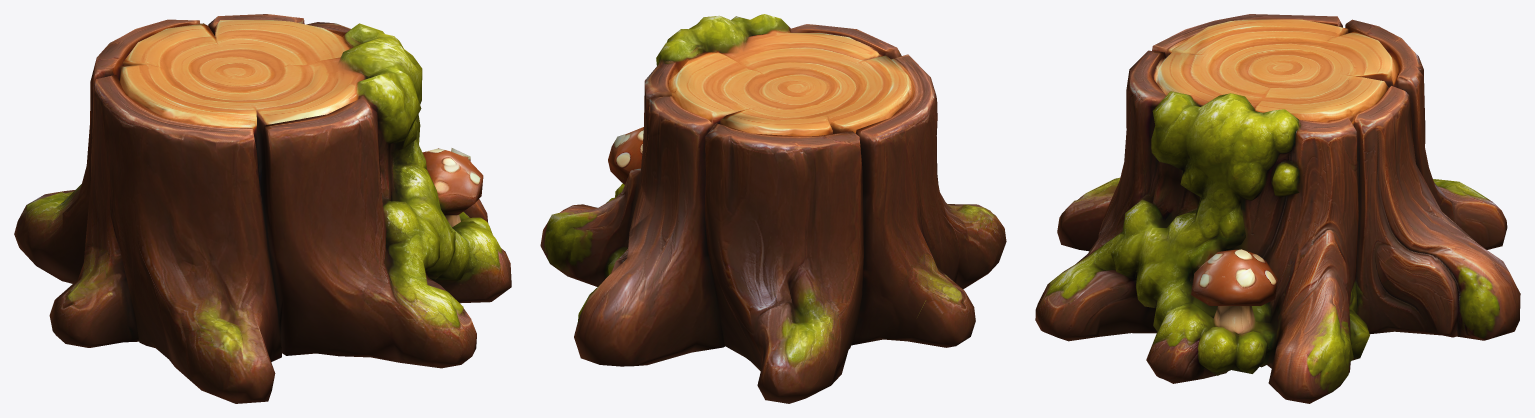
The model's file is Kit_W_Stump_raw.glb.
3 views of the same model, side by side, from view 1: azimuth 30°, elevation 25°; view 2: azimuth 150°, elevation 25°; view 3: azimuth 270°, elevation 25° (orthographic). The views are drawn at different scales.
Parts seen in each view (by area): view 1: tripo_node_e4fb05e3-4b7a-4cac-a513-6dd420969780; view 2: tripo_node_e4fb05e3-4b7a-4cac-a513-6dd420969780; view 3: tripo_node_e4fb05e3-4b7a-4cac-a513-6dd420969780.
Part boxes in pixels (x1,y1,x2,y2): tripo_node_e4fb05e3-4b7a-4cac-a513-6dd420969780: [14, 14, 511, 403]; tripo_node_e4fb05e3-4b7a-4cac-a513-6dd420969780: [540, 14, 1006, 403]; tripo_node_e4fb05e3-4b7a-4cac-a513-6dd420969780: [1035, 14, 1520, 403].
Size of the model in its own units: 1 by 0.5511 by 0.9996.
1 material, 1 textured.
